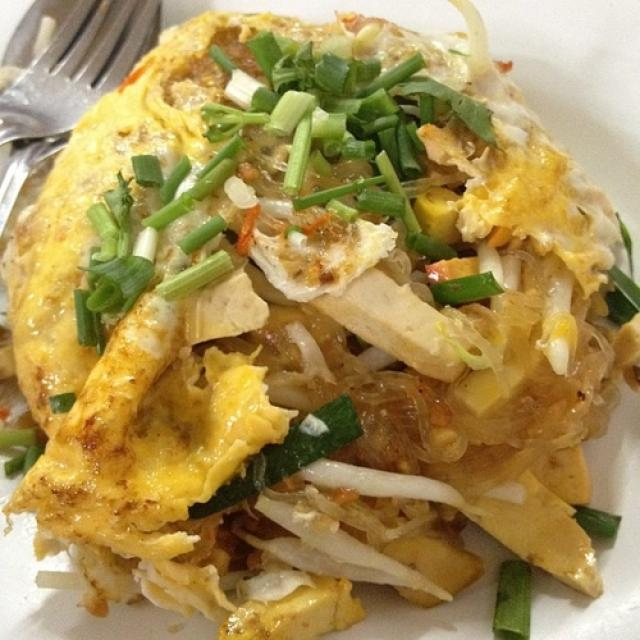炸货点心: (8, 5, 620, 631)
蛋糕甜品: (8, 5, 620, 631)
